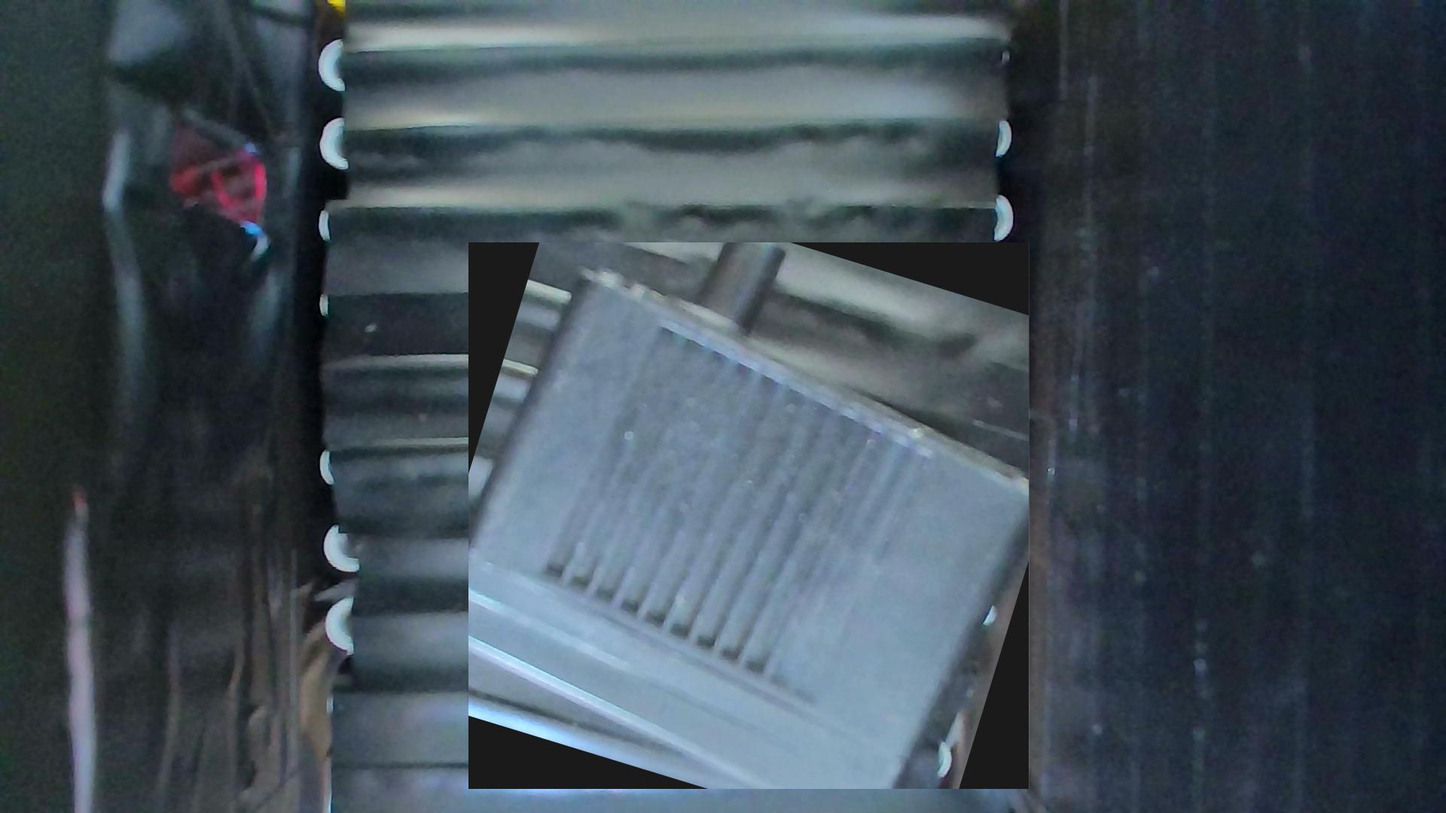motor: (469, 243, 1030, 789)
